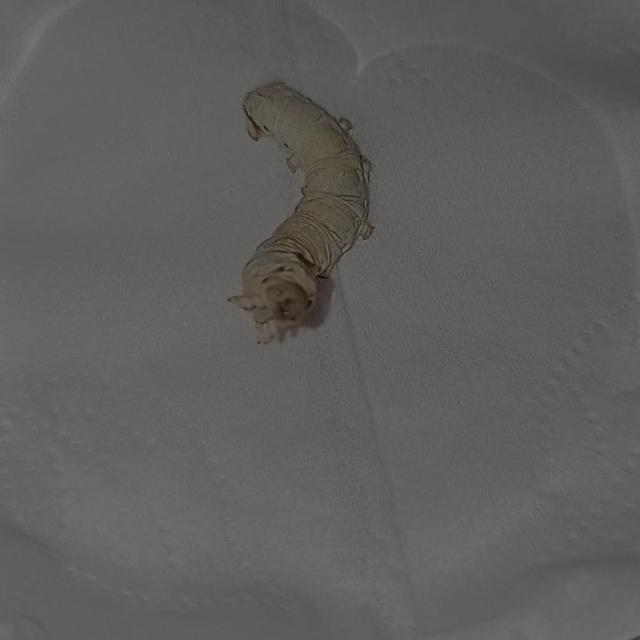Healthy: (202, 61, 385, 392)
